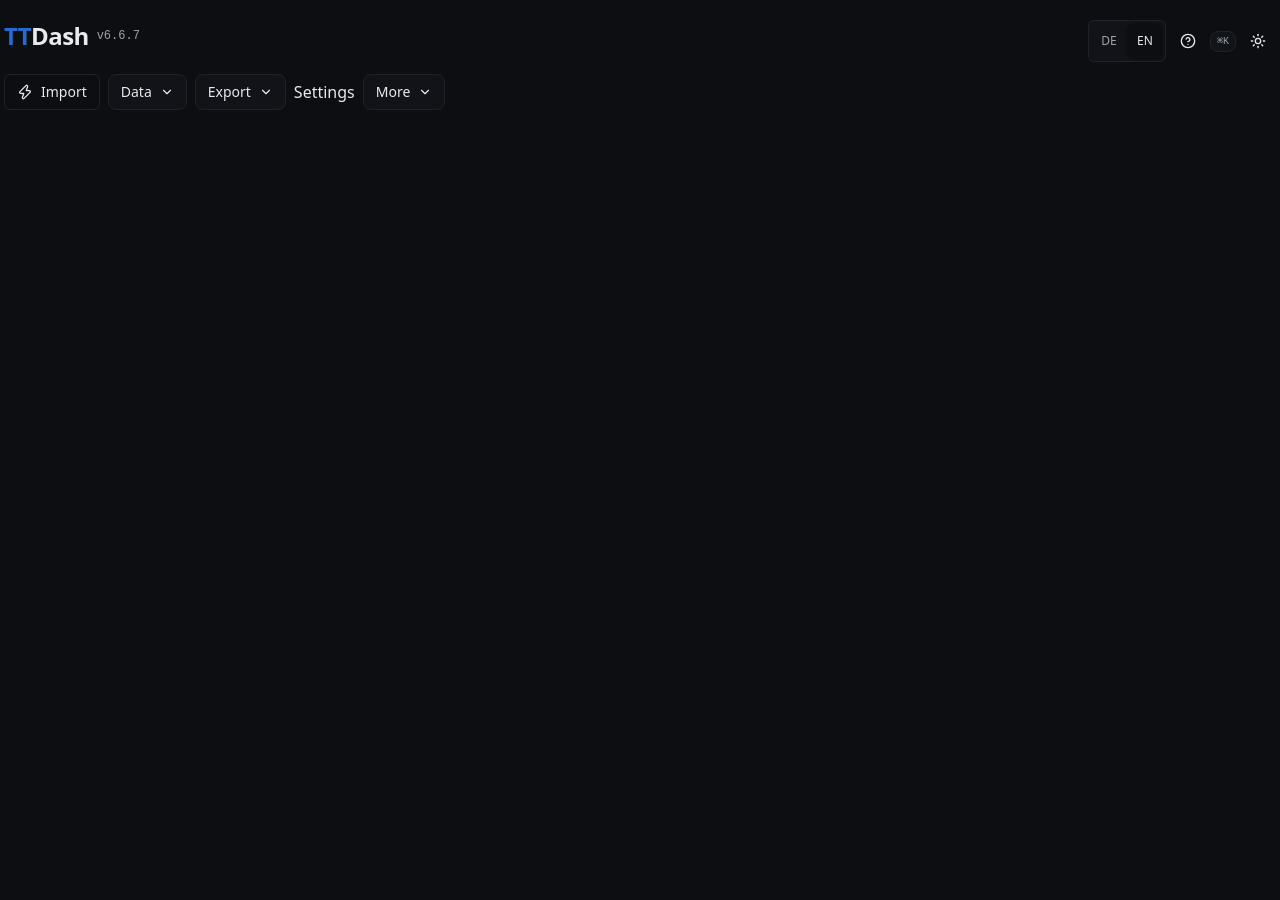
Test: Header external links › labels the shared dialog close button accessibly
Click the button named "Help & shortcuts": (1188, 41) x1=1170 y1=23 x2=1206 y2=59
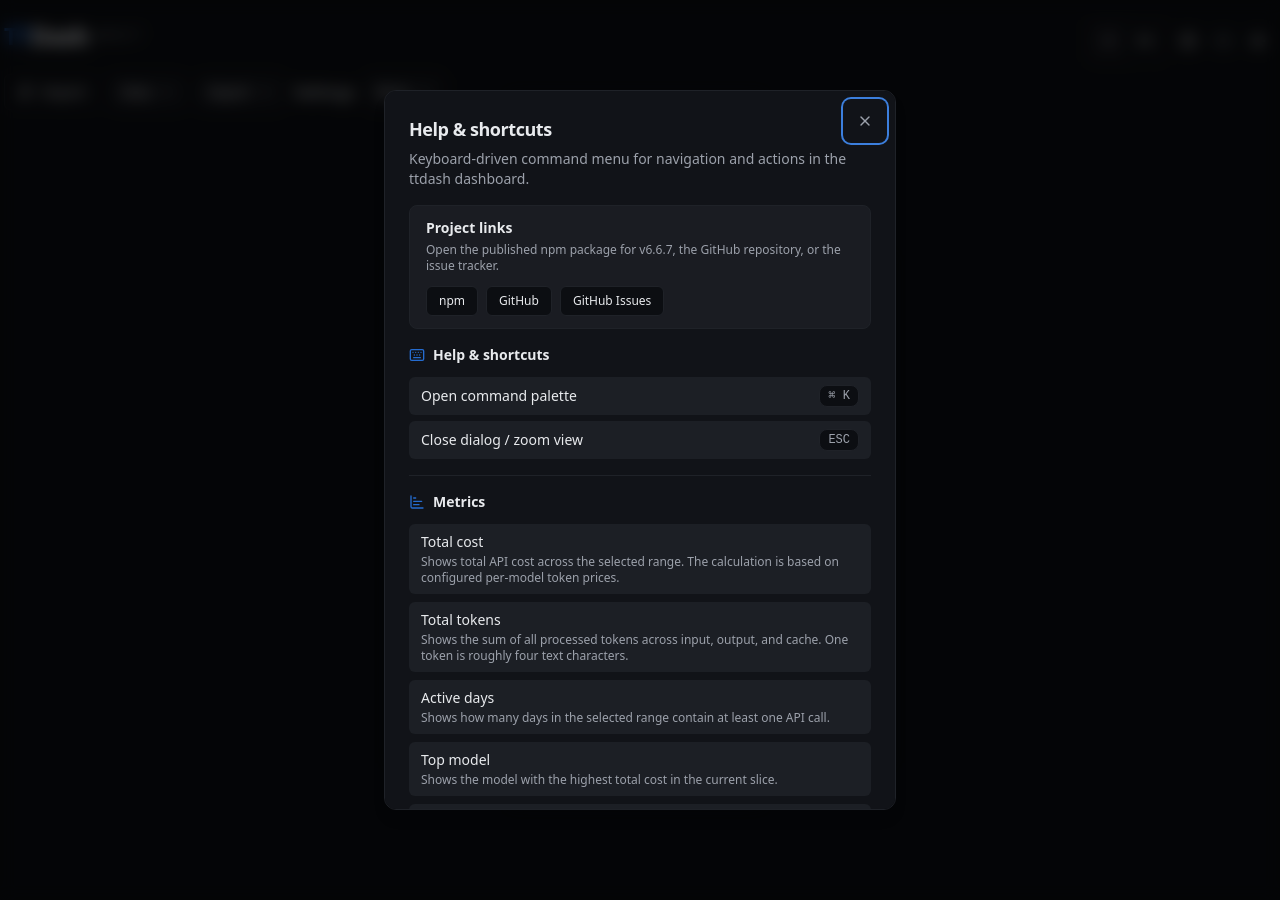
Result: the button named "Close" is shown at x1=843 y1=99 x2=887 y2=143
